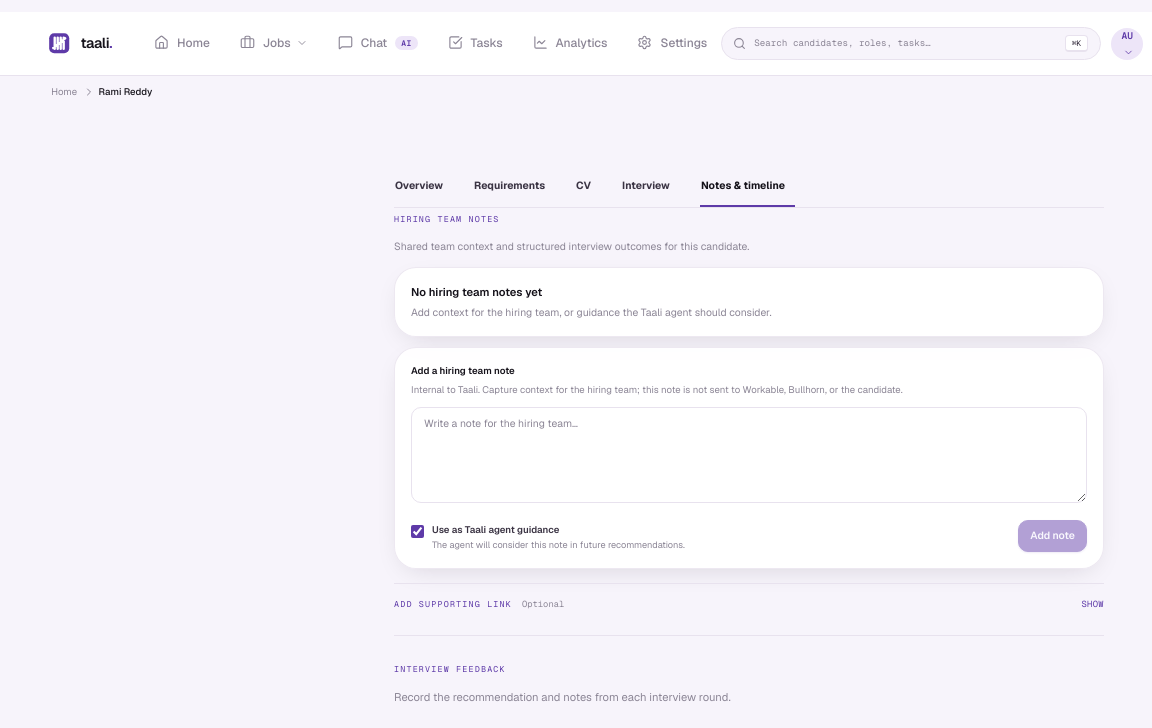
Scenario: Candidate report back link › keeps the newest same-role report read when overlapping refreshes resolve backwards
This screenshot has width=1152, height=728.
Type "Start the older refresh" into the text box with placeholder "Write a note for the hiring team…" at (749, 454), box [411,406,1087,502]
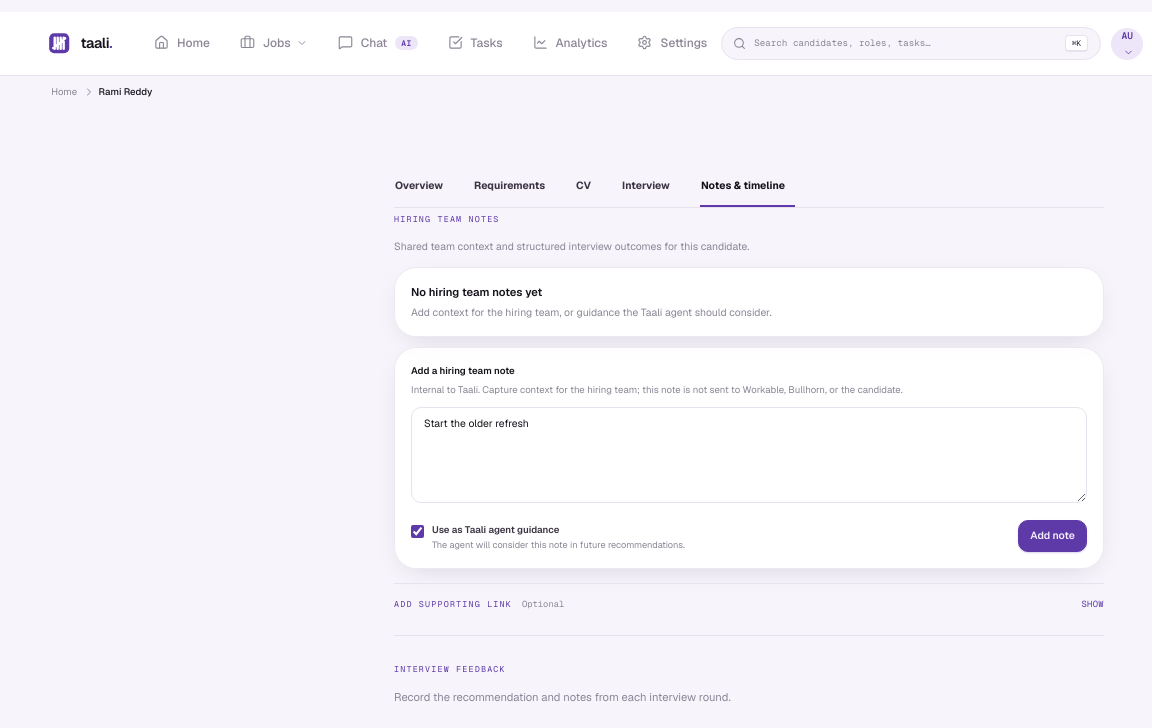
Click the button "Add note" at (1053, 536), box [1018,520,1087,552]
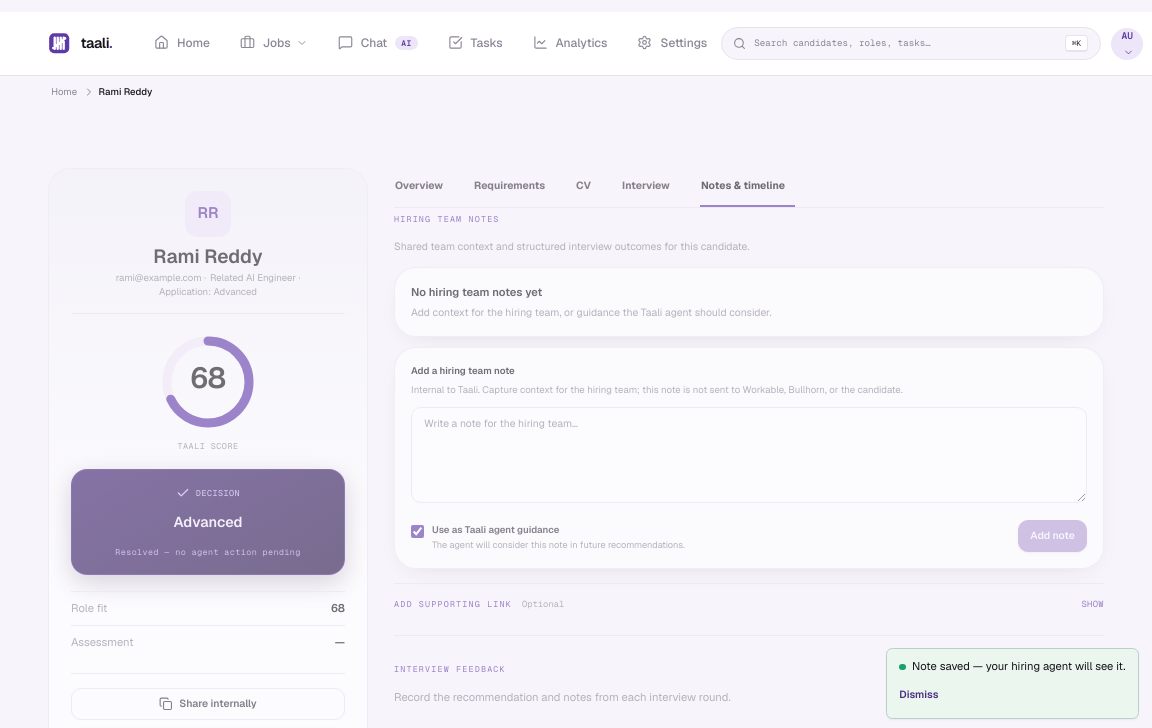
Type "Start the newer refresh" into the text box with placeholder "Write a note for the hiring team…" at (749, 454), box [411,406,1087,502]
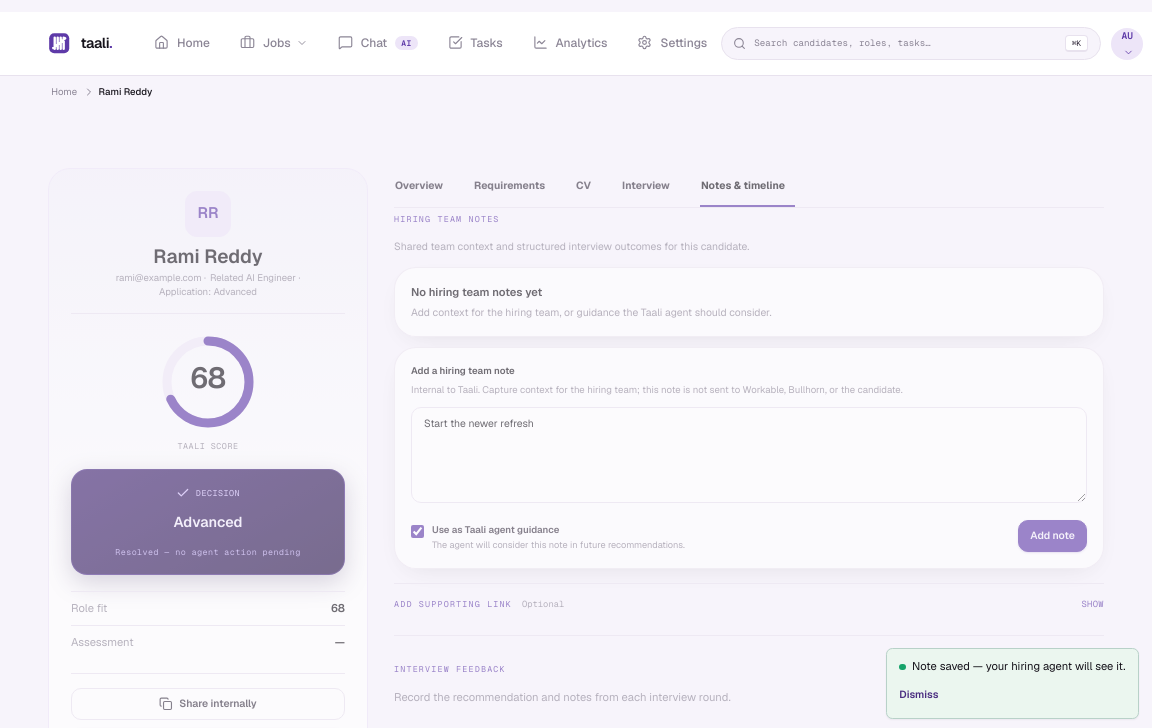
Click the button "Add note" at (1053, 536), box [1018,520,1087,552]
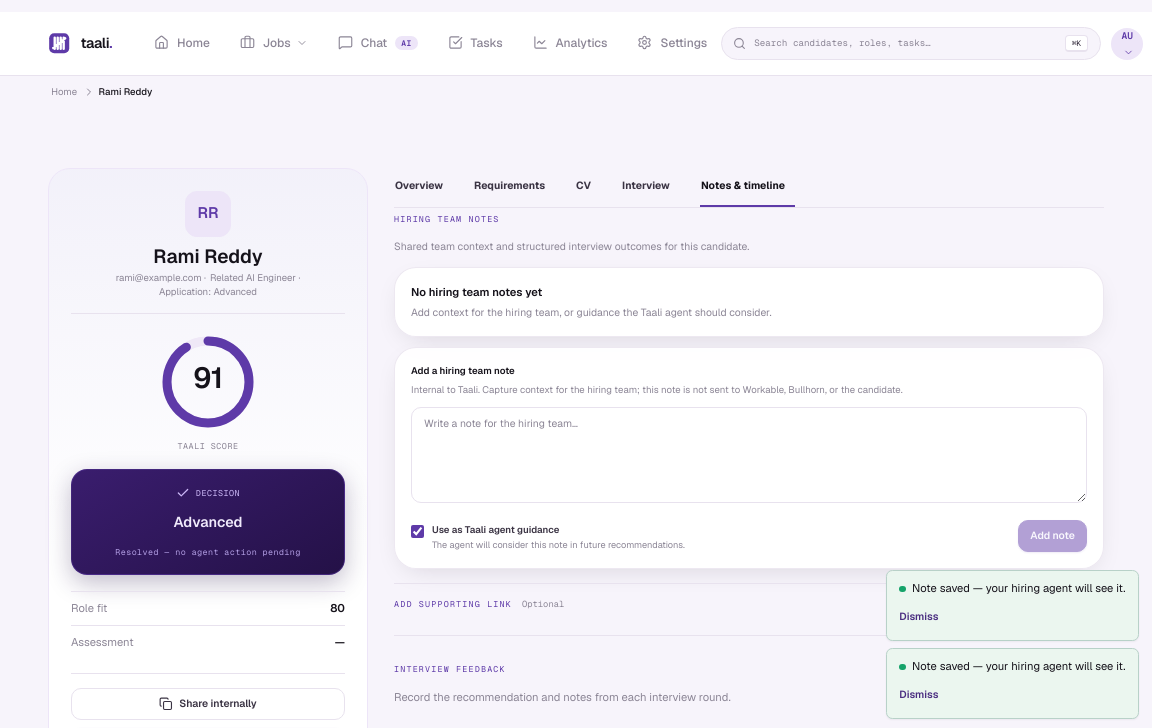
Expected: the icon named "91 of 100" is shown, [156,330,260,434]
